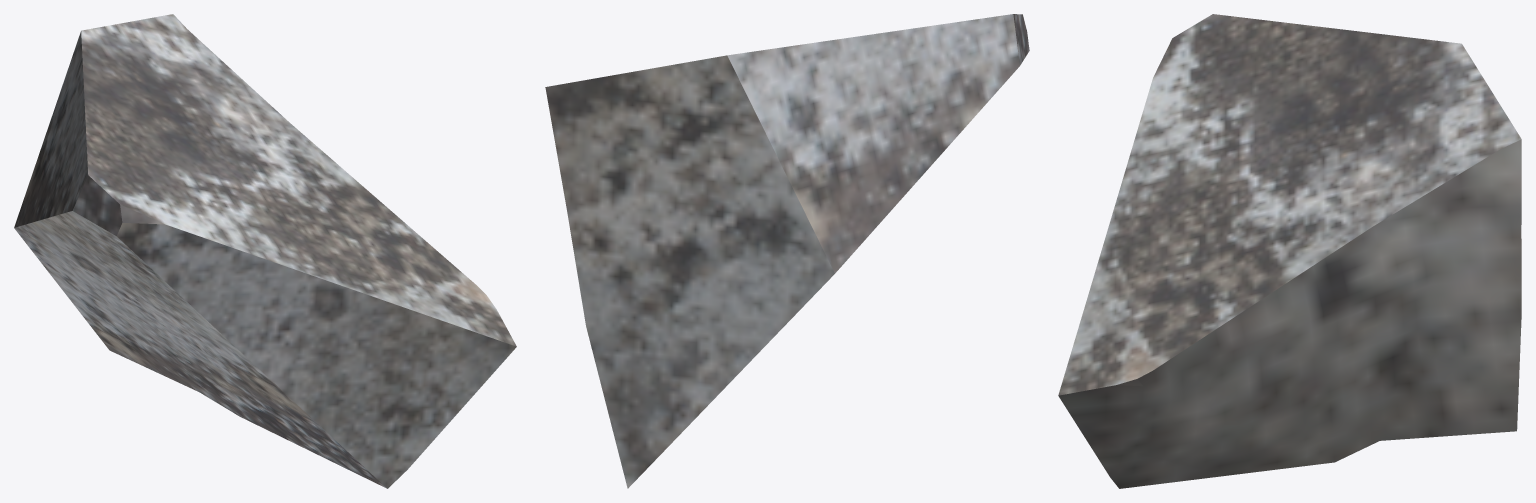
The model's file is Asteroid_Large_001_02_001_03_029.fbx.
3 views of the same model, side by side, from view 1: azimuth 30°, elevation 25°; view 2: azimuth 150°, elevation 25°; view 3: azimuth 270°, elevation 25° (orthographic). The views are drawn at different scales.
Parts seen in each view (by area): view 1: Asteroid_Large_001_02_001_03_029; view 2: Asteroid_Large_001_02_001_03_029; view 3: Asteroid_Large_001_02_001_03_029.
Part boxes in pixels (bbox=[...]): Asteroid_Large_001_02_001_03_029: bbox=[14, 14, 516, 488]; Asteroid_Large_001_02_001_03_029: bbox=[545, 14, 1029, 488]; Asteroid_Large_001_02_001_03_029: bbox=[1058, 14, 1521, 488].
Bounding box in the file's own units: 4.8 × 4.55 × 5.07.
